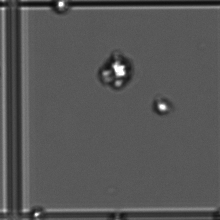Living Cell: (107, 57, 130, 81), (154, 99, 169, 114), (52, 1, 72, 12)
